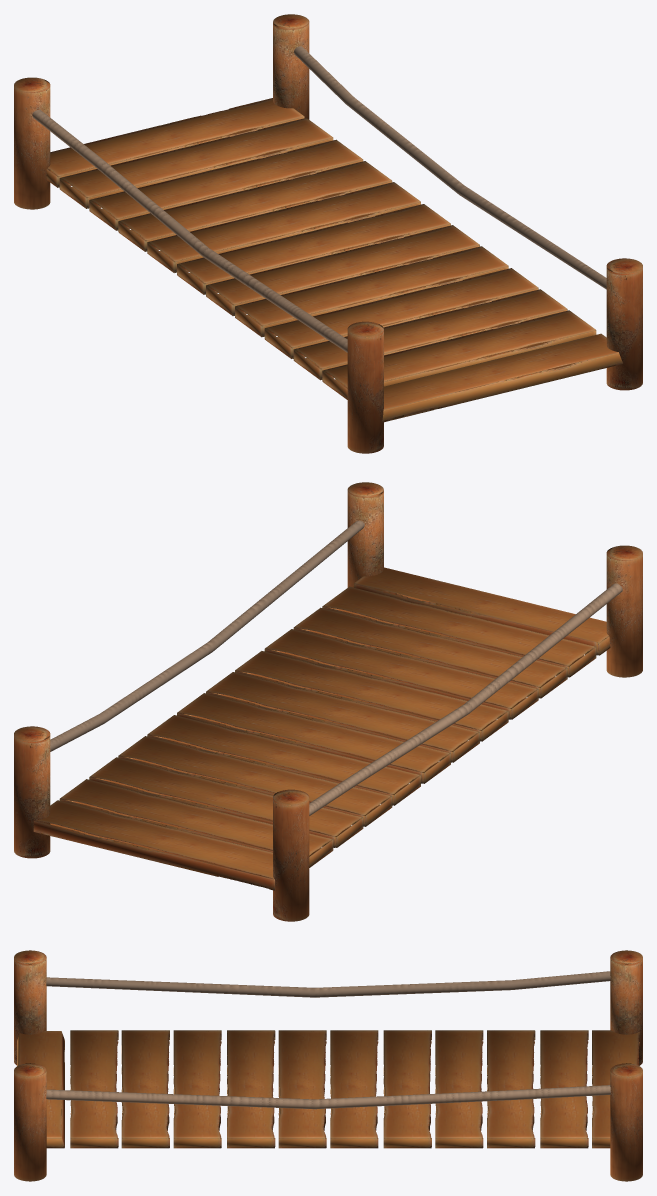
Rendered from Bridge.fbx.
3 renders of one model, top to bottom at view 1: azimuth 30°, elevation 25°; view 2: azimuth 150°, elevation 25°; view 3: azimuth 270°, elevation 25°, orthographic. The views are drawn at different scales.
Visible parts, largest first — view 1: Bridge; view 2: Bridge; view 3: Bridge.
Boxes of the visible parts, x1,y1,x2,y2 form: Bridge: [14, 14, 642, 453]; Bridge: [14, 482, 642, 921]; Bridge: [14, 950, 642, 1181].
Bounding box in the file's own units: 3.03 × 1.16 × 6.34.
